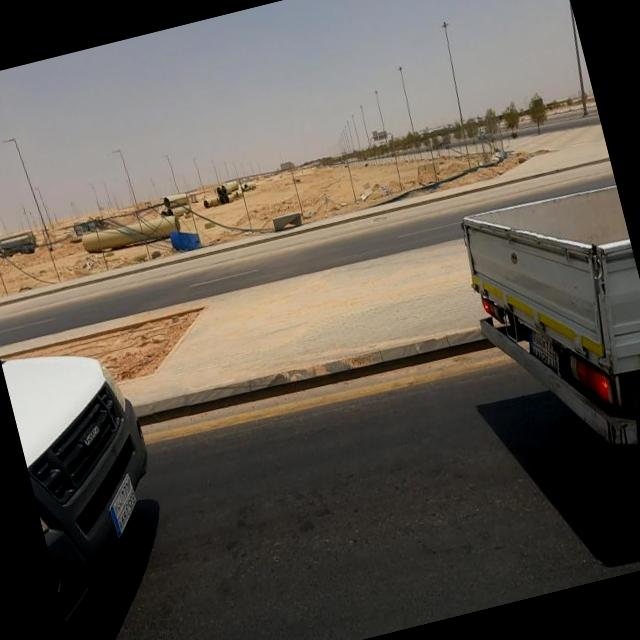debris: (458, 116, 537, 206), (148, 209, 222, 267), (351, 167, 420, 225), (346, 167, 388, 225)
